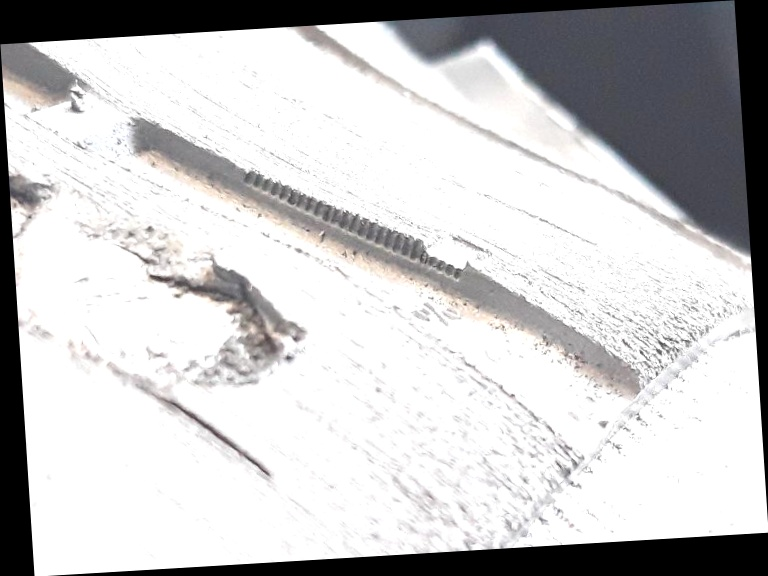temoin:0: (386, 205, 497, 295)
